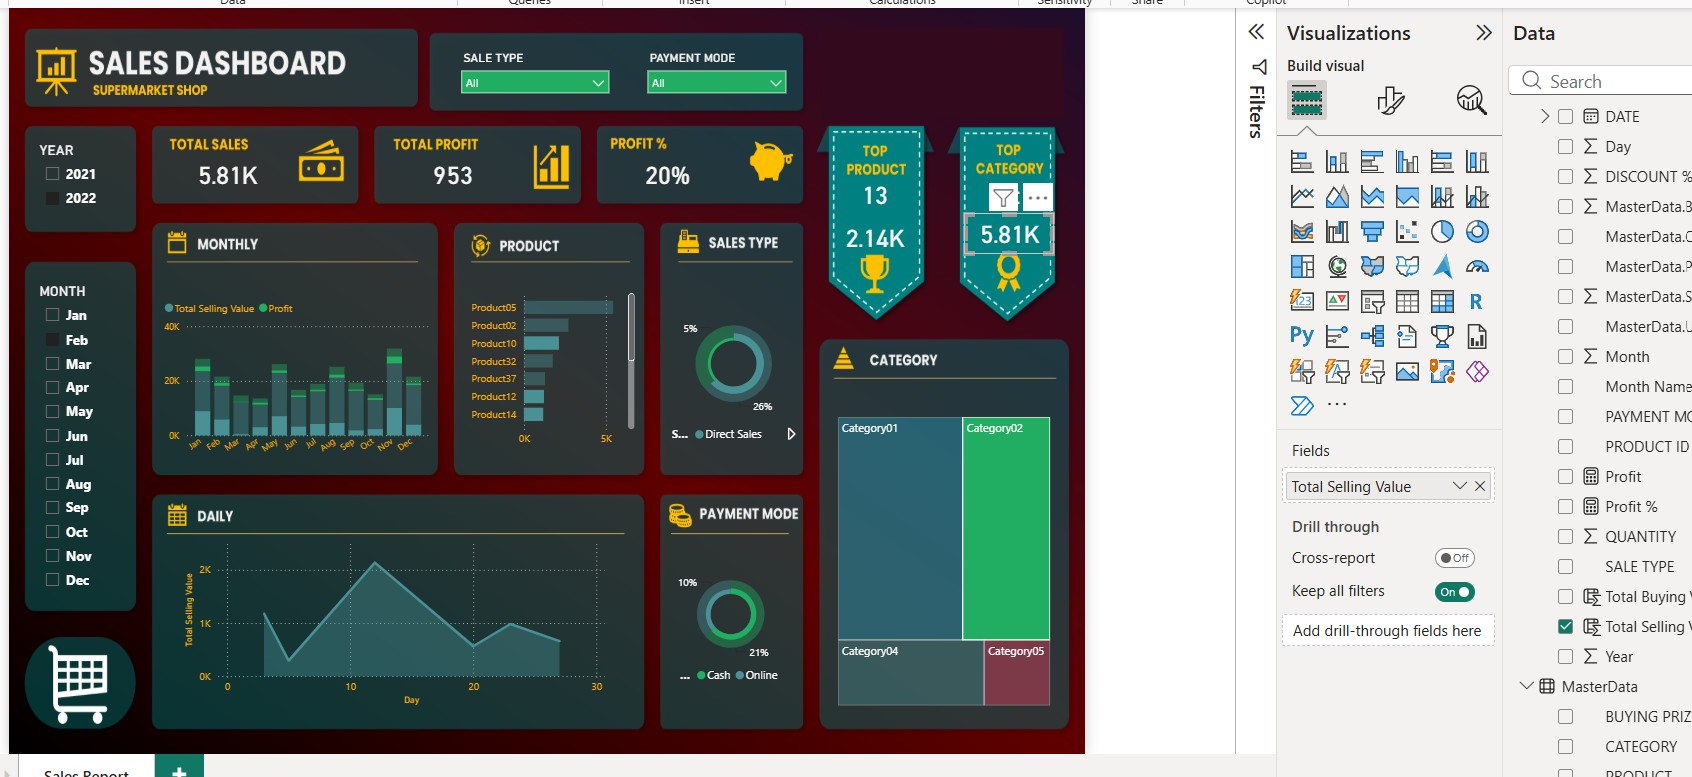

What the dashboard file says about the page in this screenshot:
{"tool":"powerbi","page":{"name":"Sales Report","canvas":[1298,900],"ordinal":0},"visuals":[{"type":"slicer","title":"YEAR","fields":{"Values":["InputData.Year"]},"box":[31.9,161.2,111.6,93.9],"z":0},{"type":"slicer","title":"MONTH","fields":{"Values":["InputData.Month Name"]},"box":[31.9,331.3,111.6,377.4],"z":1000},{"type":"slicer","fields":{"Values":["InputData.SALE TYPE"]},"box":[535,46.1,198.4,67.3],"z":2000},{"type":"slicer","fields":{"Values":["InputData.PAYMENT MODE"]},"box":[760,46.1,187.8,67.3],"z":3000},{"type":"card","fields":{"Values":["Sum(InputData.Total Selling Value)"]},"box":[178.9,161.2,168.3,78],"z":4000},{"type":"card","fields":{"Values":["InputData.Profit"]},"box":[451.8,161.2,166.5,78],"z":5000},{"type":"card","fields":{"Values":["InputData.Profit %"]},"box":[710.4,161.2,168.3,78],"z":6000},{"type":"card","fields":{"Values":["Sum(InputData.Total Selling Value)"]},"box":[995.7,255.1,99.2,42.5],"z":7000},{"type":"card","fields":{"Values":["Sum(InputData.Total Selling Value)"]},"box":[1151.6,248,109.8,49.6],"z":8000},{"type":"card","fields":{"Values":["Sum(InputData.QUANTITY)"]},"box":[995.7,200.2,99.2,47.8],"z":9000},{"type":"card","fields":{"Values":["Min(InputData.MasterData.UOM)"]},"box":[1151.6,200.2,109.8,47.8],"z":10000},{"type":"columnChart","title":"Total Selling Value and Profit by Month Name","fields":{"Category":["InputData.Month Name"],"Y":["Sum(InputData.Total Selling Value)","InputData.Profit"]},"box":[182.5,341.9,329.5,205.5],"z":11000},{"type":"clusteredBarChart","fields":{"Y":["Sum(InputData.Total Selling Value)"],"Category":["InputData.MasterData.PRODUCT"]},"box":[547.4,331.3,212.6,205.5],"z":12000},{"type":"areaChart","fields":{"Y":["Sum(InputData.Total Selling Value)"],"Category":["InputData.Day"]},"box":[207.3,632.5,517.3,214.4],"z":13000},{"type":"donutChart","fields":{"Category":["InputData.SALE TYPE"],"Y":["Sum(InputData.Total Selling Value)"]},"box":[795.5,354.3,159.4,178.9],"z":14000},{"type":"donutChart","fields":{"Category":["InputData.PAYMENT MODE"],"Y":["Sum(InputData.Total Selling Value)"]},"box":[795.5,667.9,152.4,155.9],"z":15000},{"type":"treemap","fields":{"Group":["InputData.MasterData.CATEGORY"],"Values":["Sum(InputData.Total Selling Value)"]},"box":[995.7,489,265.7,357.9],"z":16000}]}

Visuals, with their boxes on the page's 1298x900 design canvas (x1, y1, x2, y2). These are canvas units, not pixel positions in the 1692x777 screenshot, which may show the page scaled, cropped or inside an application window:
"YEAR" slicer: 32,161,144,255
"MONTH" slicer: 32,331,144,709
slicer - InputData.SALE TYPE: 535,46,733,113
slicer - InputData.PAYMENT MODE: 760,46,948,113
card - Sum(InputData.Total Selling Value): 179,161,347,239
card - InputData.Profit: 452,161,618,239
card - InputData.Profit %: 710,161,879,239
card - Sum(InputData.Total Selling Value): 996,255,1095,298
card - Sum(InputData.Total Selling Value): 1152,248,1261,298
card - Sum(InputData.QUANTITY): 996,200,1095,248
card - Min(InputData.MasterData.UOM): 1152,200,1261,248
"Total Selling Value and Profit by Month Name" columnChart: 182,342,512,547
clusteredBarChart - Sum(InputData.Total Selling Value) x InputData.MasterData.PRODUCT: 547,331,760,537
areaChart - Sum(InputData.Total Selling Value) x InputData.Day: 207,632,725,847
donutChart - InputData.SALE TYPE x Sum(InputData.Total Selling Value): 796,354,955,533
donutChart - InputData.PAYMENT MODE x Sum(InputData.Total Selling Value): 796,668,948,824
treemap - InputData.MasterData.CATEGORY x Sum(InputData.Total Selling Value): 996,489,1261,847
